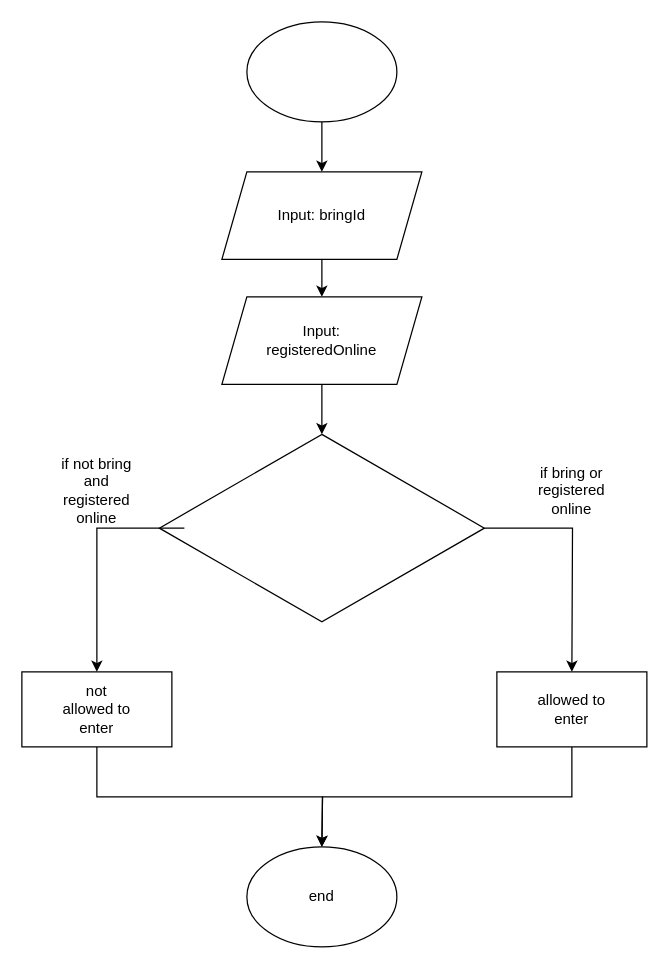
Image size: 669x969. Some labels were removed from this diagram. Here are the shapes that lost their labels. From the top down, the box of each, then its label:
(246, 21, 397, 122): Start
(158, 433, 484, 622): if bringId == yes OR if registeredOnline == yes
